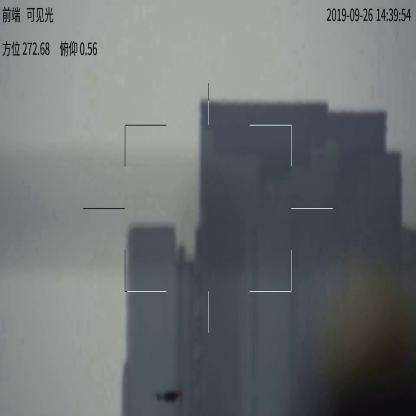uav: (153, 387, 185, 406)
